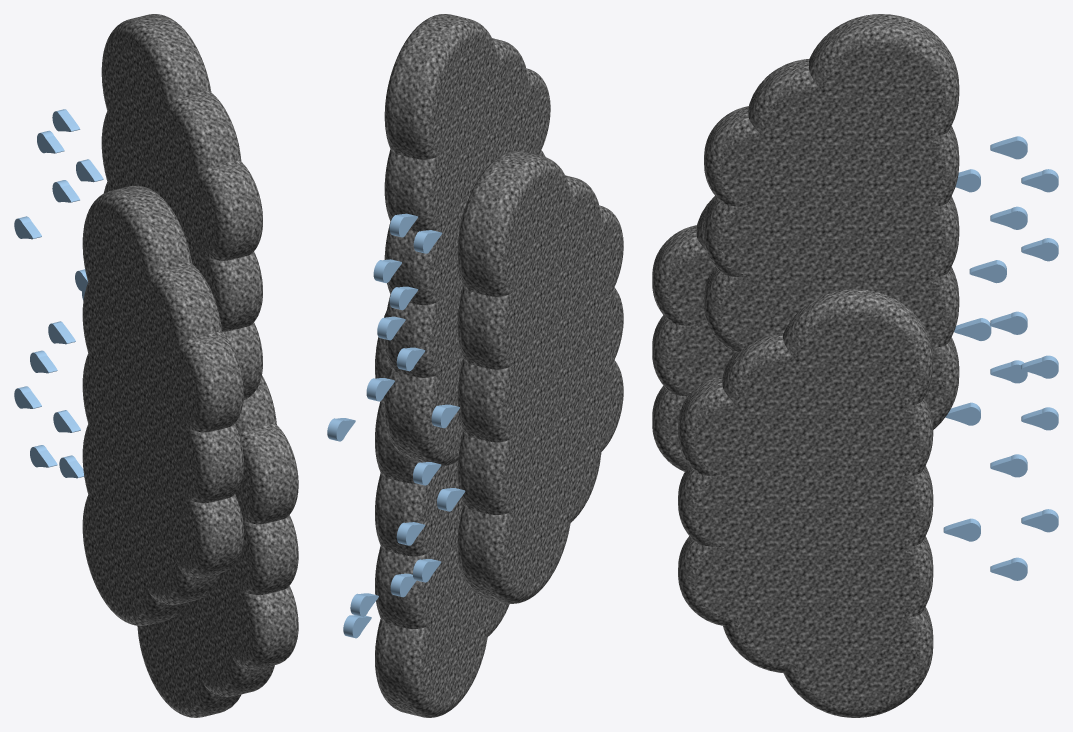
File: rainingv3.glb
3 views of the same model, side by side, from view 1: azimuth 30°, elevation 25°; view 2: azimuth 150°, elevation 25°; view 3: azimuth 270°, elevation 25° (orthographic). The views are drawn at different scales.
Parts seen in each view (by area): view 1: Body1, Body3, Body2, Body4, Body12, Body15, Body19, Body8, Body11, Body13, Body18, Body7; view 2: Body1, Body3, Body2, Body10, Body6, Body7, Body8, Body12, Body19, Body4, Body16, Body5 (+5 smaller); view 3: Body2, Body3, Body1.
Boxes of the visible parts, bbox=[...] form: Body1: bbox=[82, 185, 243, 625]; Body3: bbox=[101, 14, 262, 399]; Body2: bbox=[137, 375, 298, 717]; Body4: bbox=[52, 109, 80, 131]; Body12: bbox=[14, 216, 41, 239]; Body15: bbox=[53, 410, 80, 432]; Body19: bbox=[48, 321, 75, 344]; Body8: bbox=[52, 180, 79, 202]; Body11: bbox=[14, 386, 41, 408]; Body13: bbox=[30, 350, 57, 373]; Body18: bbox=[76, 159, 103, 182]; Body7: bbox=[37, 130, 64, 153]; Body1: bbox=[457, 151, 623, 603]; Body3: bbox=[384, 14, 550, 466]; Body2: bbox=[375, 311, 509, 717]; Body10: bbox=[366, 378, 394, 401]; Body6: bbox=[350, 593, 378, 616]; Body7: bbox=[373, 259, 401, 283]; Body8: bbox=[389, 286, 418, 310]; Body12: bbox=[396, 347, 425, 371]; Body19: bbox=[431, 404, 459, 428]; Body4: bbox=[389, 213, 417, 237]; Body16: bbox=[377, 316, 405, 340]; Body5: bbox=[413, 559, 441, 582]; Body2: bbox=[678, 289, 933, 717]; Body3: bbox=[704, 14, 959, 429]; Body1: bbox=[652, 196, 734, 471].
Bounding box in the file's own units: 2.5 × 14.5 × 7.84.
19 materials, 3 textured.
